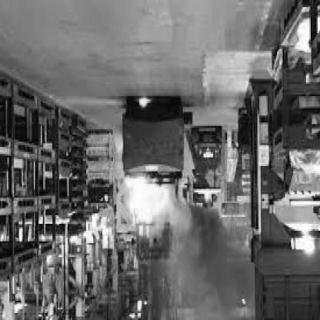Fire: (123, 179, 190, 237)
Smoke: (188, 216, 245, 310)
